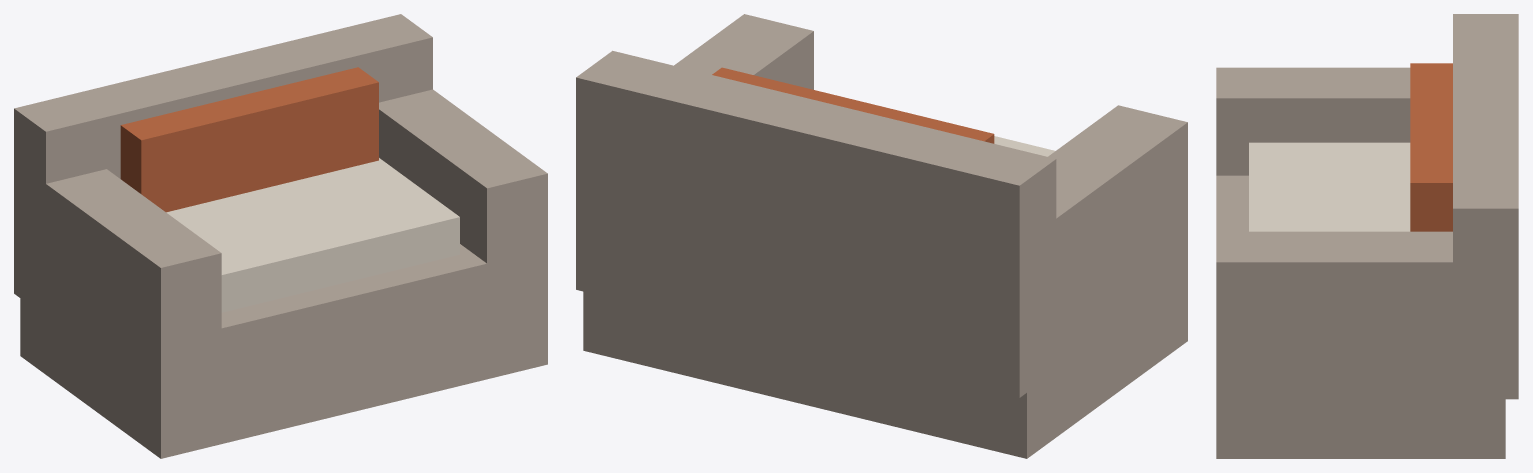
The picture shows the model from 3 angles, left to right: view 1: azimuth 30°, elevation 25°; view 2: azimuth 150°, elevation 25°; view 3: azimuth 270°, elevation 25°; orthographic projection. The views are drawn at different scales.
Visible parts, largest first — view 1: sofa_lounge_ne; view 2: sofa_lounge_ne; view 3: sofa_lounge_ne.
Boxes of the visible parts, <box> form: sofa_lounge_ne: <box>14,14,547,458</box>; sofa_lounge_ne: <box>576,14,1187,458</box>; sofa_lounge_ne: <box>1216,14,1518,458</box>.
Bounding box in the file's own units: 1.4 × 0.92 × 0.84.
